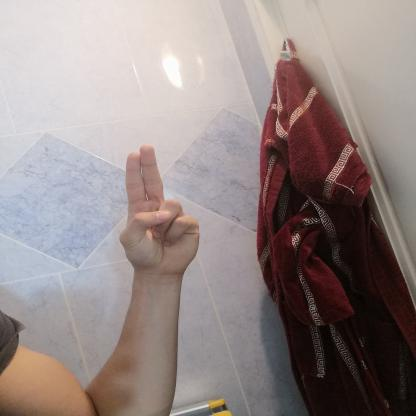TA: (106, 134, 211, 285)
